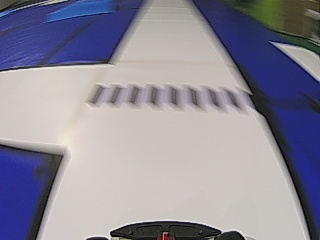CrossWalk: (87, 84, 243, 111)
